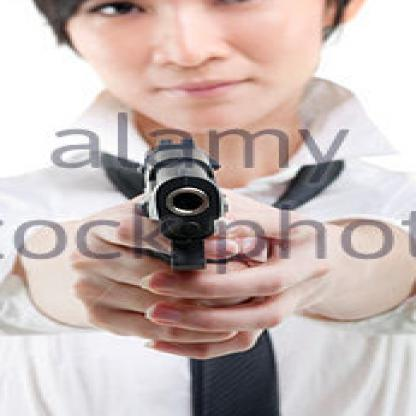gun: (120, 129, 255, 296)
